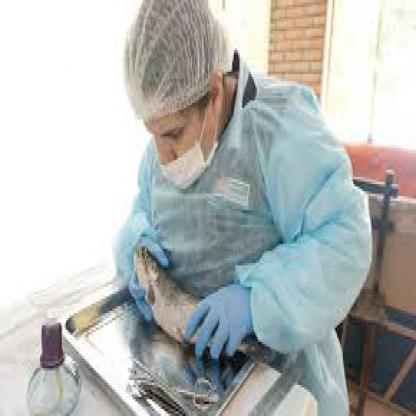fish: (130, 240, 272, 358)
